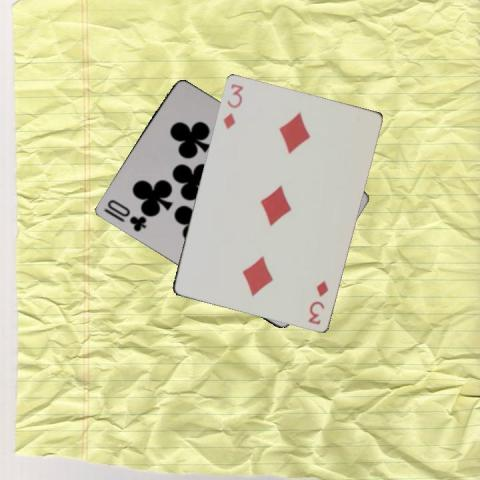10c: (100, 197, 148, 233)
3d: (220, 80, 245, 130), (305, 278, 329, 326)
